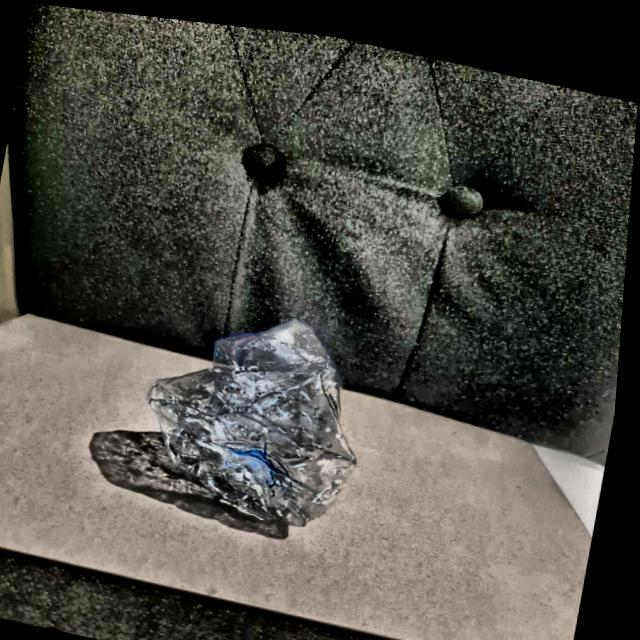Bottles: (139, 272, 415, 556)
